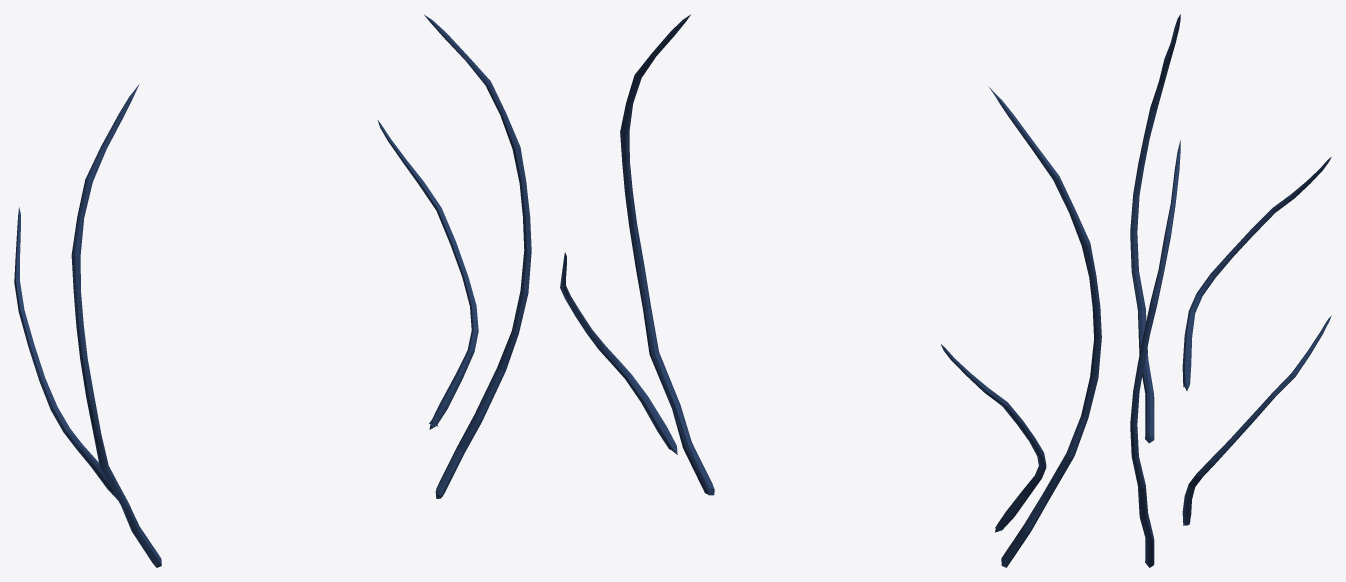
The model's file is Vena Temporal Superficial.FBX.
3 views of the same model, side by side, from view 1: azimuth 30°, elevation 25°; view 2: azimuth 150°, elevation 25°; view 3: azimuth 270°, elevation 25° (orthographic). The views are drawn at different scales.
Parts seen in each view (by area): view 1: CS_Veins; view 2: CS_Veins; view 3: CS_Veins.
Boxes of the visible parts, x1,y1,x2,y2 form: CS_Veins: [14, 14, 531, 567]; CS_Veins: [560, 14, 1101, 567]; CS_Veins: [1130, 14, 1331, 567].
Bounding box in the file's own units: 503 × 501 × 214.
